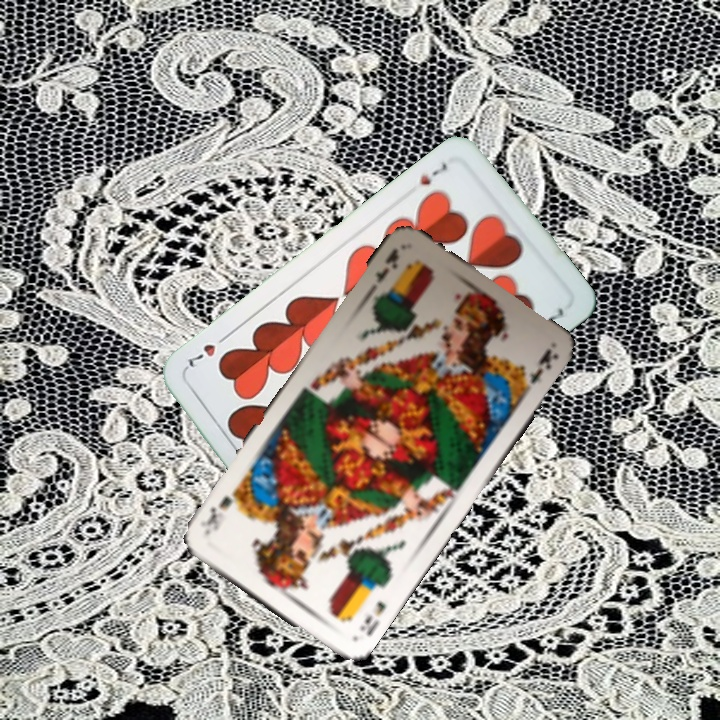EK: (363, 244, 402, 295), (355, 597, 389, 639)
H7: (415, 158, 451, 188)
